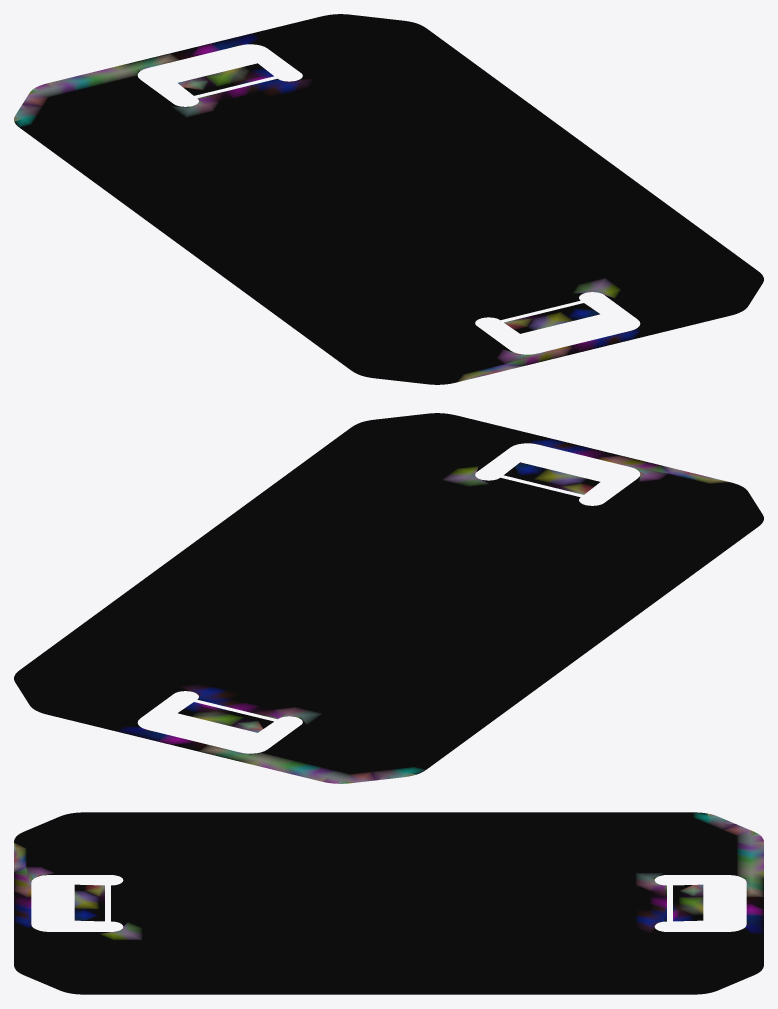
The model's file is Grass_Plane.gltf.
3 views of the same model, one above another, from view 1: azimuth 30°, elevation 25°; view 2: azimuth 150°, elevation 25°; view 3: azimuth 270°, elevation 25° (orthographic). The views are drawn at different scales.
Parts seen in each view (by area): view 1: Grass_Plane; view 2: Grass_Plane; view 3: Grass_Plane.
Boxes of the visible parts, x1,y1,x2,y2 form: Grass_Plane: (14, 14, 763, 384); Grass_Plane: (14, 413, 763, 783); Grass_Plane: (14, 812, 763, 994).
Size of the model in its own units: 76.12 by 0.164 by 132.
